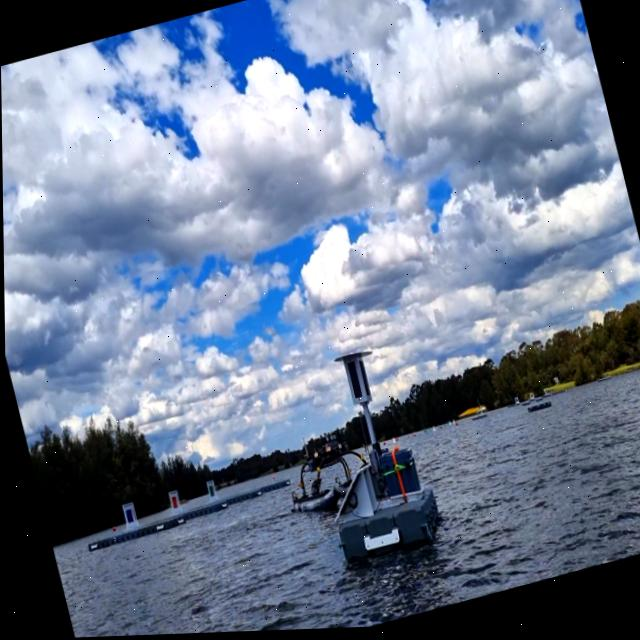led: (343, 358, 365, 405)
